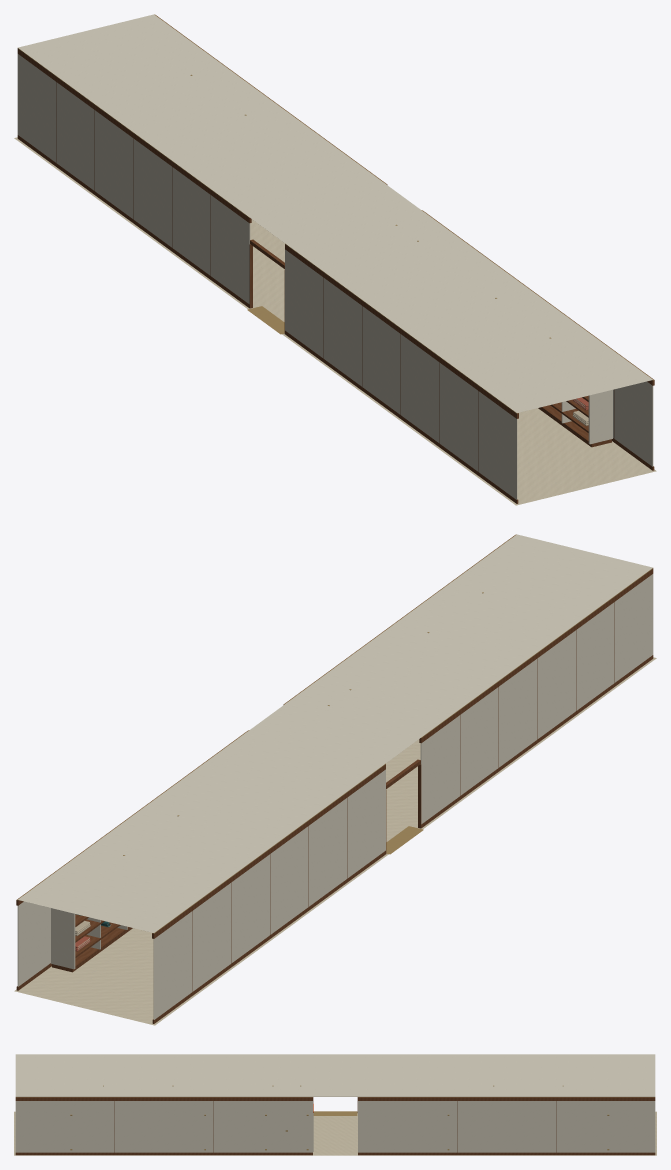
Rendered from thread_stock_repair_r004.glb.
3 views of the same model, one above another, from view 1: azimuth 30°, elevation 25°; view 2: azimuth 150°, elevation 25°; view 3: azimuth 270°, elevation 25° (orthographic). The views are drawn at different scales.
Visible parts, largest first — view 1: Group5VisualFinish_ThreadCeiling, Group5VisualFinish_WestWall_-233.9, Group5VisualFinish_WestWall_-214.2, Group5VisualFinish_ThreadStoneFloor, Group5VisualFinish_EastWall_-214.2, West_CeilingCove_-233.9, West_CeilingCove_-214.2, TextileReserve_side_-200.0, West_Skirting_-214.2, West_Skirting_-233.9; view 2: Group5VisualFinish_ThreadCeiling, Group5VisualFinish_WestWall_-214.2, Group5VisualFinish_WestWall_-233.9, Group5VisualFinish_ThreadStoneFloor, Group5VisualFinish_EastWall_-233.9, TextileStock_side_-231.5, West_CeilingCove_-214.2, West_CeilingCove_-233.9, West_Skirting_-233.9, West_Skirting_-214.2; view 3: Group5VisualFinish_ThreadCeiling, Group5VisualFinish_EastWall_-233.9, Group5VisualFinish_EastWall_-214.2, Group5VisualFinish_ThreadStoneFloor, East_CeilingCove_-214.2, East_CeilingCove_-233.9, East_Skirting_-214.2, East_Skirting_-233.9, East_CoveReveal_-214.2, East_CoveReveal_-233.9, Group5VisualFinish_ServiceThreshold.
Boxes of the visible parts, left/top/right/bottom form: Group5VisualFinish_ThreadCeiling: left=18, top=14, right=652, bottom=412; Group5VisualFinish_WestWall_-233.9: left=17, top=54, right=250, bottom=304; Group5VisualFinish_WestWall_-214.2: left=285, top=249, right=517, bottom=499; Group5VisualFinish_ThreadStoneFloor: left=14, top=137, right=656, bottom=505; Group5VisualFinish_EastWall_-214.2: left=613, top=381, right=653, bottom=466; West_CeilingCove_-233.9: left=17, top=49, right=251, bottom=223; West_CeilingCove_-214.2: left=285, top=244, right=518, bottom=418; TextileReserve_side_-200.0: left=588, top=390, right=612, bottom=444; West_Skirting_-214.2: left=285, top=330, right=518, bottom=503; West_Skirting_-233.9: left=17, top=135, right=249, bottom=307; Group5VisualFinish_ThreadCeiling: left=18, top=534, right=652, bottom=932; Group5VisualFinish_WestWall_-214.2: left=420, top=574, right=653, bottom=824; Group5VisualFinish_WestWall_-233.9: left=153, top=769, right=385, bottom=1019; Group5VisualFinish_ThreadStoneFloor: left=14, top=657, right=656, bottom=1025; Group5VisualFinish_EastWall_-233.9: left=17, top=901, right=50, bottom=986; TextileStock_side_-231.5: left=51, top=908, right=75, bottom=969; West_CeilingCove_-214.2: left=419, top=569, right=653, bottom=743; West_CeilingCove_-233.9: left=152, top=764, right=385, bottom=938; West_Skirting_-233.9: left=152, top=850, right=385, bottom=1023; West_Skirting_-214.2: left=421, top=655, right=653, bottom=827; Group5VisualFinish_ThreadCeiling: left=15, top=1054, right=655, bottom=1096; Group5VisualFinish_EastWall_-233.9: left=358, top=1101, right=655, bottom=1152; Group5VisualFinish_EastWall_-214.2: left=15, top=1101, right=312, bottom=1152; Group5VisualFinish_ThreadStoneFloor: left=14, top=1111, right=656, bottom=1155; East_CeilingCove_-214.2: left=15, top=1097, right=312, bottom=1100; East_CeilingCove_-233.9: left=358, top=1097, right=655, bottom=1100; East_Skirting_-214.2: left=15, top=1152, right=312, bottom=1155; East_Skirting_-233.9: left=358, top=1152, right=655, bottom=1155; East_CoveReveal_-214.2: left=16, top=1097, right=312, bottom=1097; East_CoveReveal_-233.9: left=358, top=1097, right=654, bottom=1097; Group5VisualFinish_ServiceThreshold: left=313, top=1111, right=357, bottom=1115.
Bounding box in the file's own units: 6.05 × 3.7 × 37.
10 materials, 10 textured.
